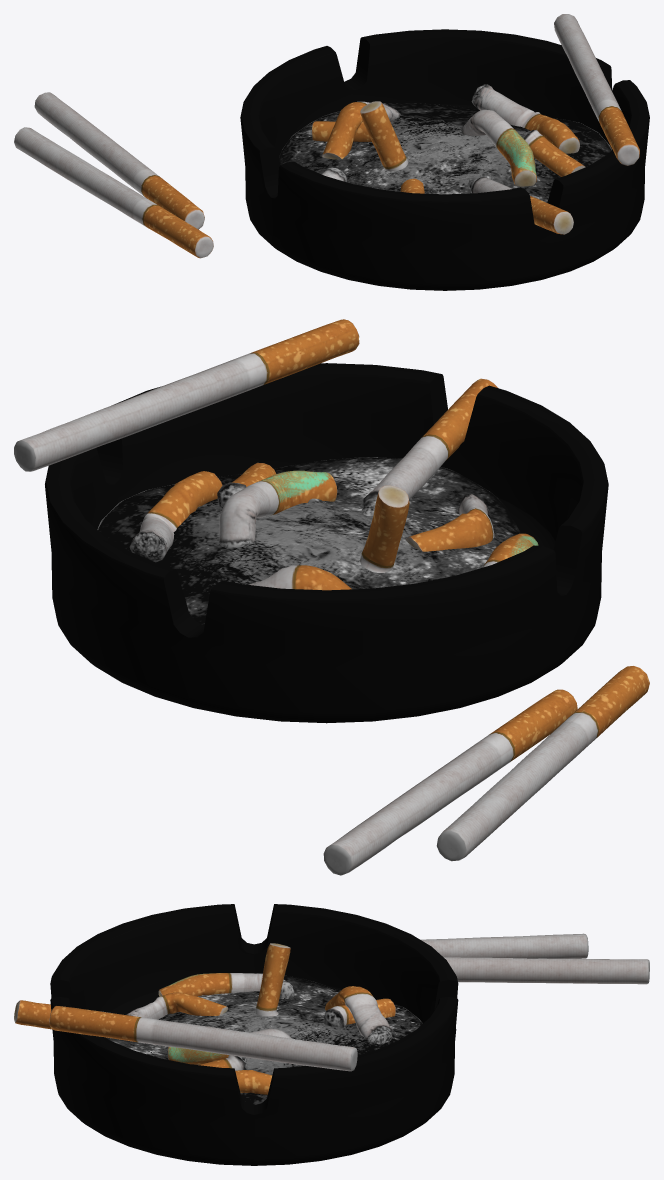
3 views of the same model, one above another, from view 1: azimuth 30°, elevation 25°; view 2: azimuth 150°, elevation 25°; view 3: azimuth 270°, elevation 25° (orthographic). The views are drawn at different scales.
Parts seen in each view (by area): view 1: Ashtray; view 2: Ashtray; view 3: Ashtray.
Part boxes in pixels (<box>): Ashtray: <box>14,14,649,290</box>; Ashtray: <box>14,319,649,875</box>; Ashtray: <box>14,904,649,1165</box>.
Size of the model in its own units: 0.1363 by 0.0348 by 0.1675.
1 material, 1 textured.
